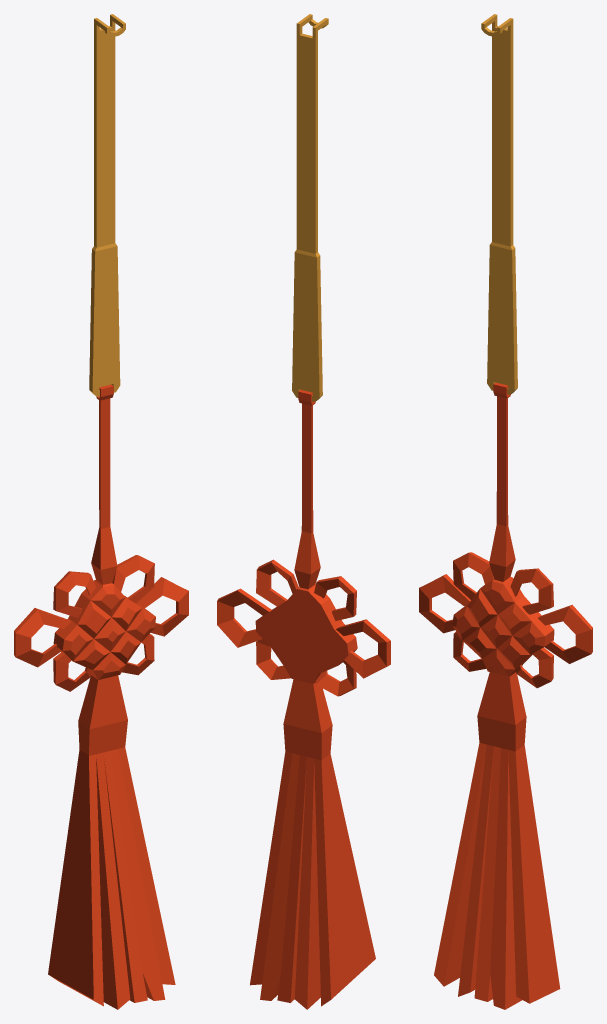
Rendered from Key.glb.
3 renders of one model, left to right at view 1: azimuth 30°, elevation 25°; view 2: azimuth 150°, elevation 25°; view 3: azimuth 330°, elevation 25°, orthographic.
Parts seen in each view (by area): view 1: 열쇠장식, 열쇠; view 2: 열쇠장식, 열쇠; view 3: 열쇠장식, 열쇠.
Boxes of the visible parts, x1,y1,x2,y2 form: 열쇠장식: [14, 384, 188, 1009]; 열쇠: [89, 14, 125, 396]; 열쇠장식: [217, 390, 390, 1009]; 열쇠: [292, 14, 328, 401]; 열쇠장식: [419, 382, 592, 1009]; 열쇠: [481, 14, 517, 394].
Bounding box in the file's own units: 0.0313 × 0.1682 × 0.0142.
